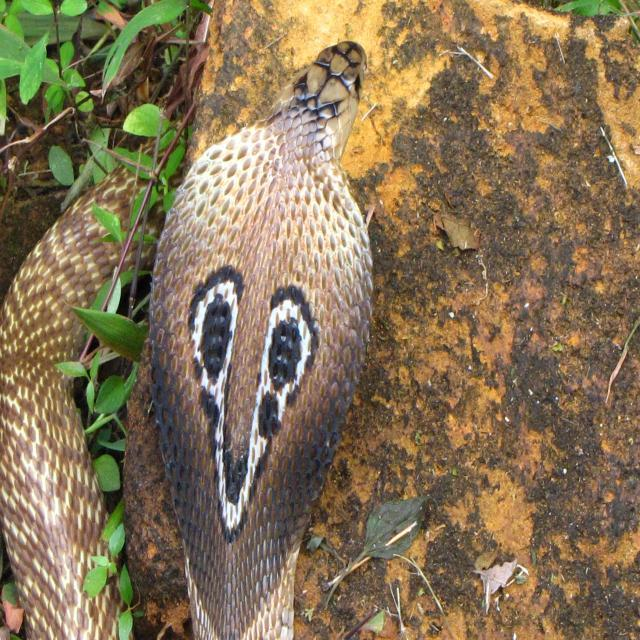Snake: (1, 38, 376, 639)
